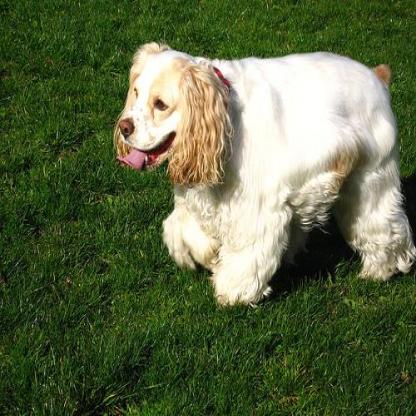cocker_spaniel: (109, 37, 413, 306)
